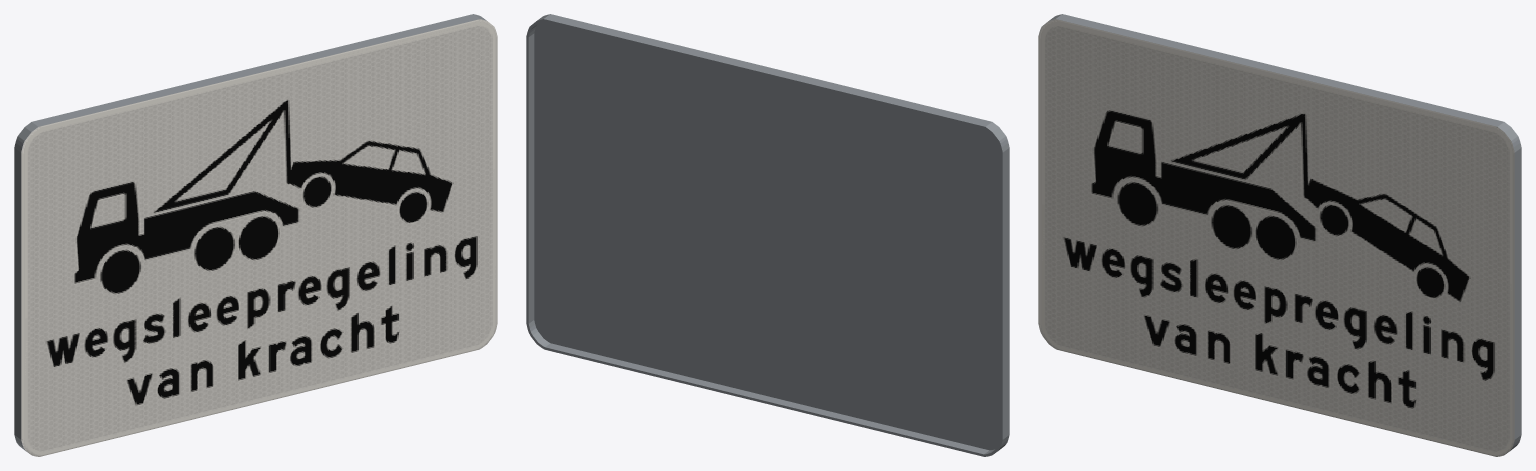
3 renders of one model, left to right at view 1: azimuth 30°, elevation 25°; view 2: azimuth 150°, elevation 25°; view 3: azimuth 330°, elevation 25°, orthographic.
Parts seen in each view (by area): view 1: cat_3cbd6d7bddce761b; view 2: cat_3cbd6d7bddce761b; view 3: cat_3cbd6d7bddce761b.
Boxes of the visible parts, x1,y1,x2,y2 form: cat_3cbd6d7bddce761b: (14, 14, 497, 456); cat_3cbd6d7bddce761b: (526, 14, 1009, 456); cat_3cbd6d7bddce761b: (1038, 14, 1521, 456).
Size of the model in its own units: 0.6 by 0.015 by 0.3976.
Materials: 2 (1 with a texture image).
